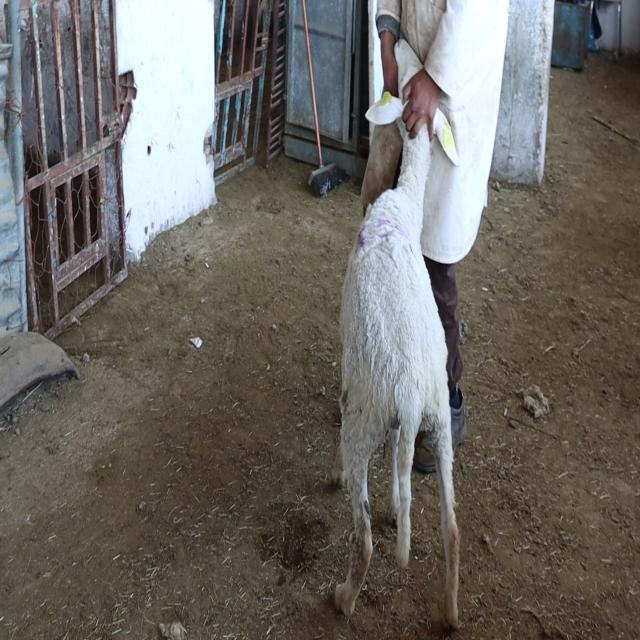Score_3: (333, 39, 459, 626)
